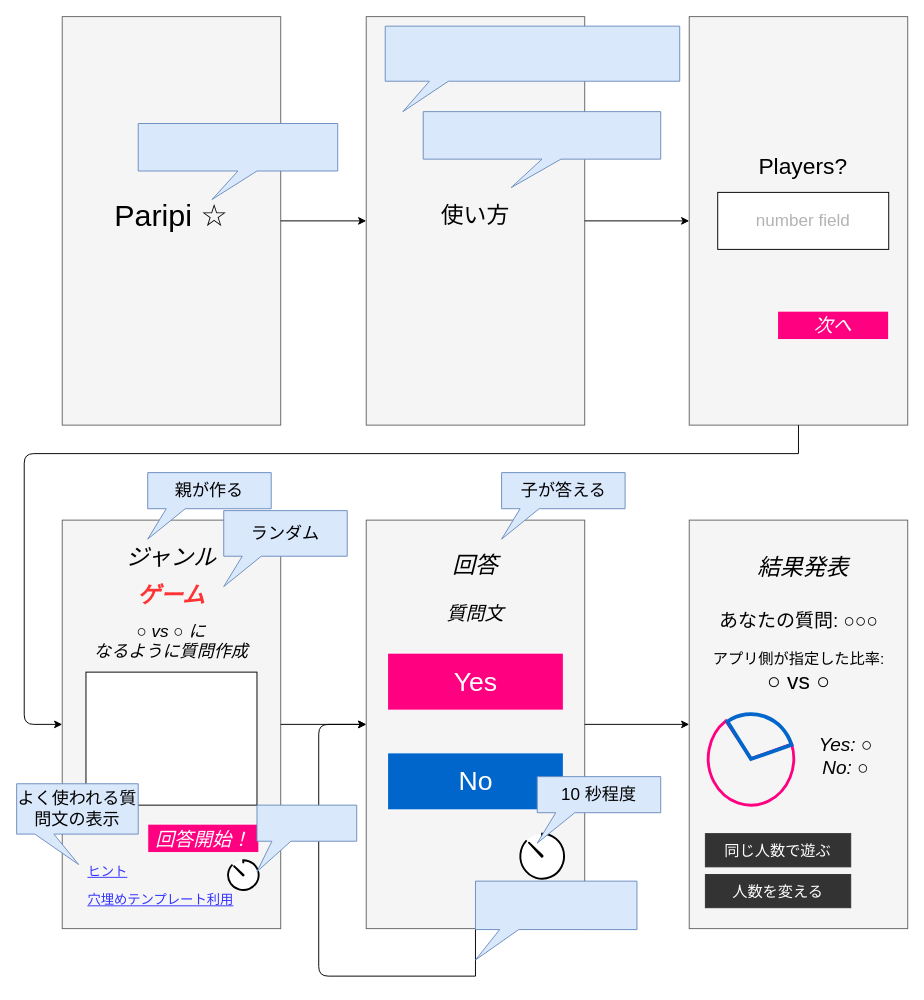
This 924x1000 diagram has some shape labels left out. The shapes that lost their labels are listed below. From the top down, each one's centre as x and y in pixels, then its label:
the point at 532,68: 2回目からは省略 再確認できるリンクをどこかに設置
the point at 237,161: スプラッシュスクリーン
the point at 541,149: 2 ~ 5ページ
the point at 171,738: text field
the point at 306,838: 1分程度
the point at 556,920: プレイヤーの数だけ繰り返す
